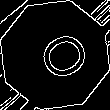O_SW: (22, 24, 88, 86)
